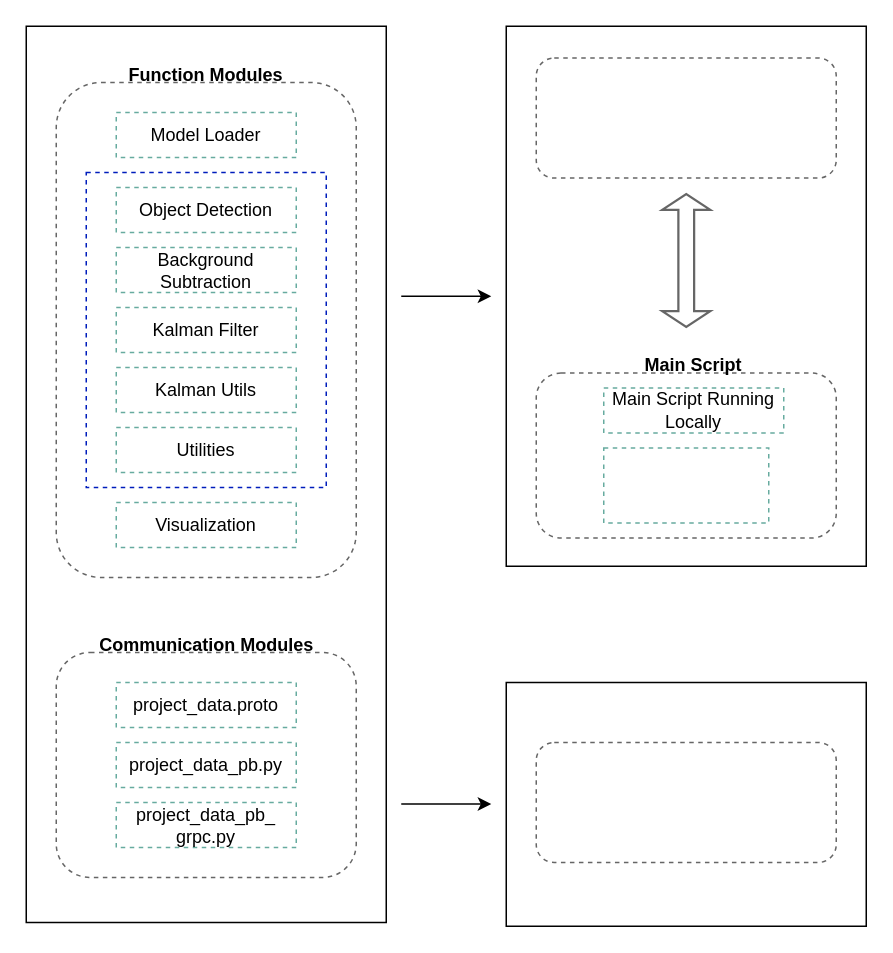
Image size: 893x953. Some labels were removed from this diagram. The centre of each missing label's shape, as x and y in pixels:
Main Script Running With Offloading Configutation: pixel 685 485
Reinforcement Learning: pixel 685 801
Server: pixel 685 117
